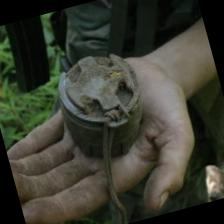M14: (49, 46, 155, 167)
